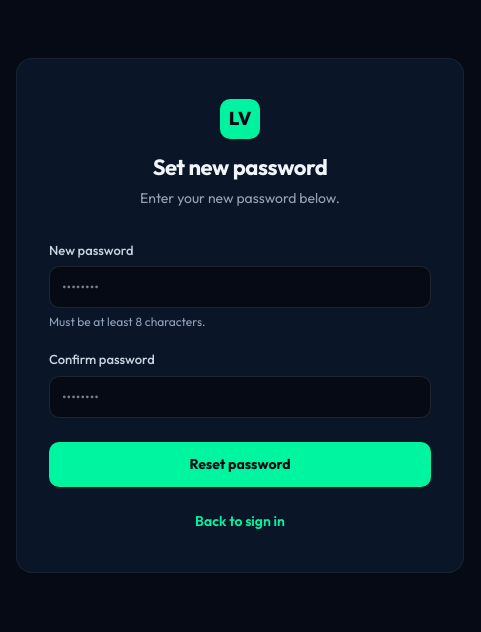
Scenario: C1: Reset password — full password policy › rejects weak passwords (strength < 2)
Type "abcdefgh" into the password field labelled "New password" at (240, 287), box [49,266,431,308]
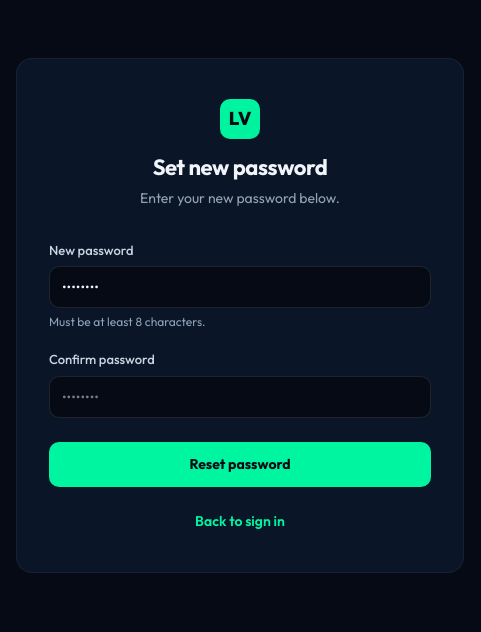
Type "abcdefgh" into the password field labelled "Confirm password" at (240, 396), box [49,376,431,418]
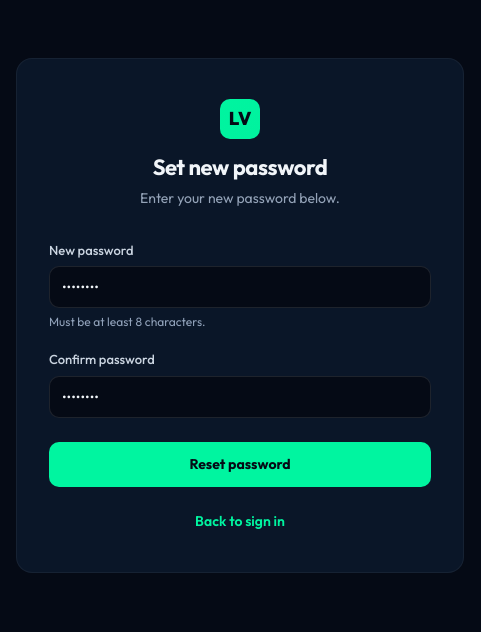
Submit the form from the button "Reset password", box [49,442,431,486]
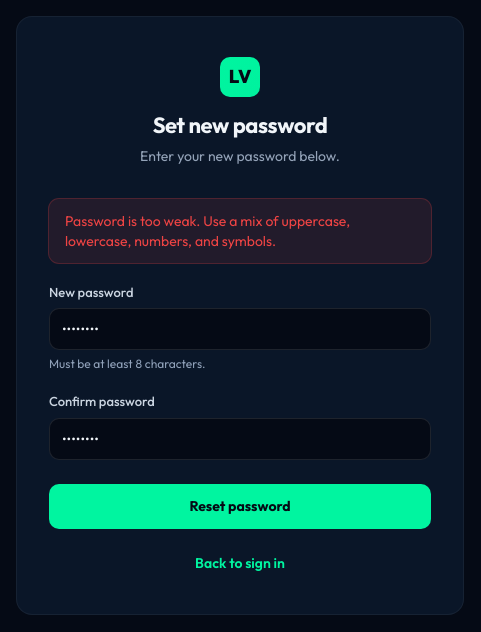
Expected: the message shows "too weak", [65,212,350,250]
